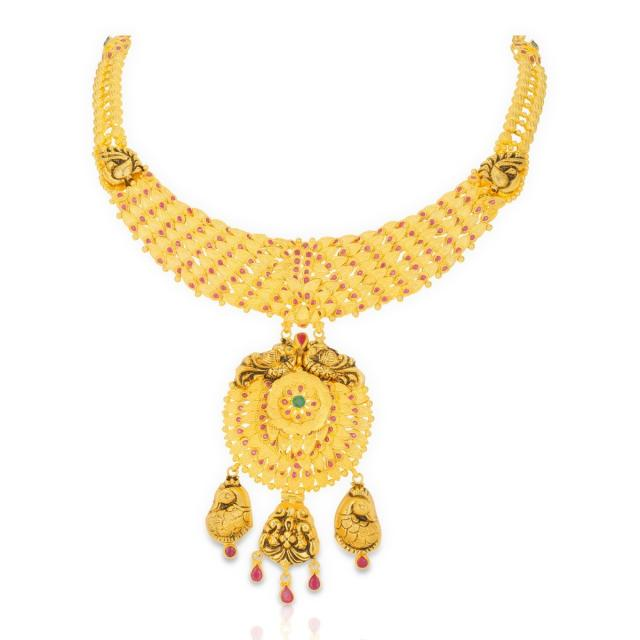missing gem: (363, 276, 374, 285), (307, 390, 315, 396)
